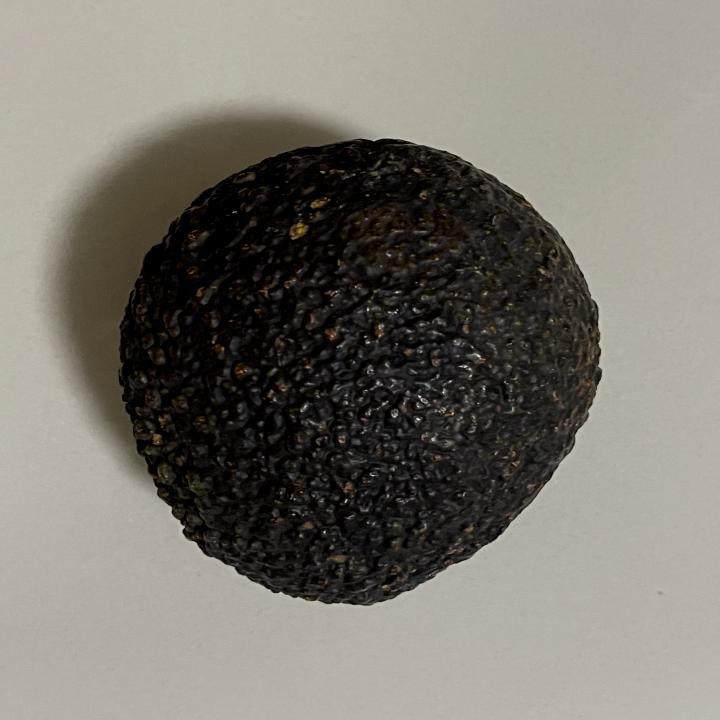Level2: (110, 131, 612, 615)
